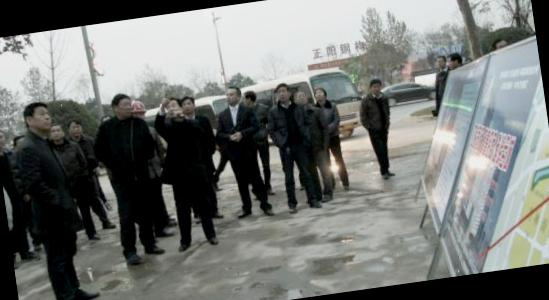no_helmet: (17, 96, 59, 137), (107, 91, 134, 120), (162, 92, 184, 122), (46, 118, 68, 144), (176, 92, 198, 116), (272, 82, 294, 104), (222, 84, 243, 106), (64, 117, 84, 140), (292, 86, 311, 110), (446, 48, 464, 72), (312, 85, 330, 107), (366, 76, 384, 98), (240, 88, 258, 109), (434, 54, 448, 73)
